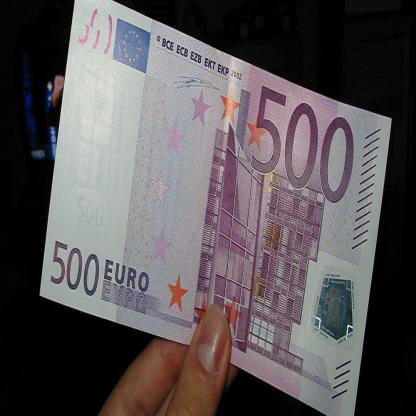billete: (36, 0, 391, 414)
